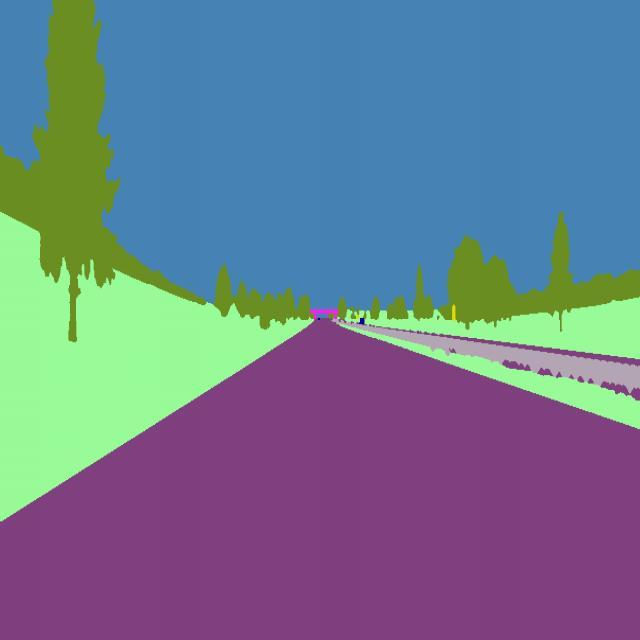safe: (357, 316, 367, 329)
